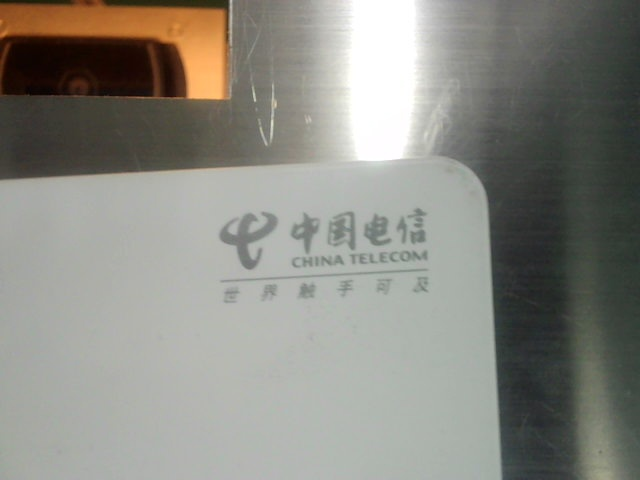AB_ChinaTelecom: (208, 208, 447, 309)
